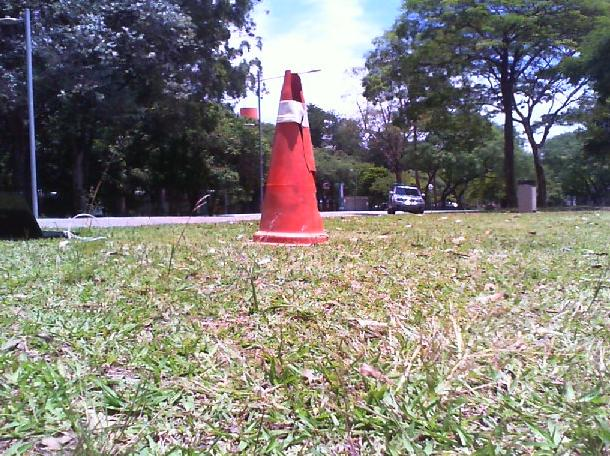0 cone: (251, 69, 331, 247)
